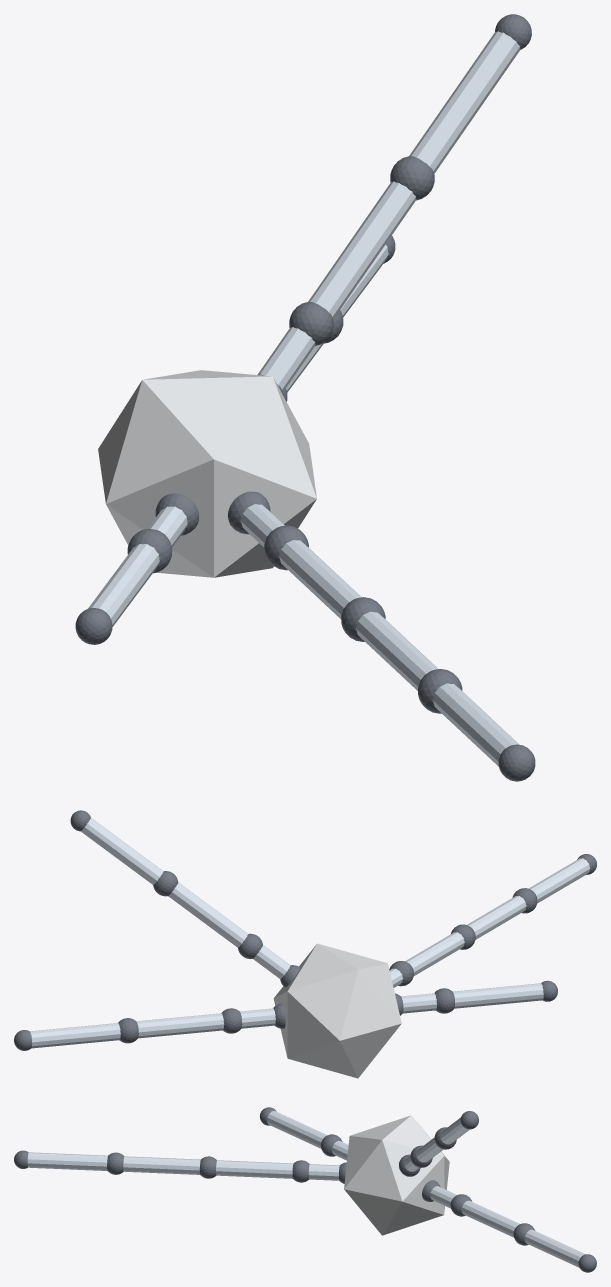
Rendered from g0_4332_0_abs.glb.
3 views of the same model, one above another, from view 1: azimuth 30°, elevation 25°; view 2: azimuth 150°, elevation 25°; view 3: azimuth 270°, elevation 25° (orthographic). The views are drawn at different scales.
Visible parts, largest first — view 1: geom_0, geom_22, geom_20, geom_15, geom_11, geom_13, geom_27, geom_18, geom_21, geom_19, geom_16, geom_28 (+1 smaller); view 2: geom_0, geom_22, geom_27, geom_6, geom_20, geom_4, geom_15, geom_11, geom_13, geom_18, geom_2, geom_25 (+5 smaller); view 3: geom_0, geom_15, geom_11, geom_13, geom_6, geom_27, geom_4, geom_9, geom_22, geom_20, geom_2, geom_10 (+8 smaller).
Part boxes in pixels (x1,y1,x2,y2): geom_0: [98, 370, 316, 577]; geom_22: [409, 31, 520, 173]; geom_20: [308, 181, 416, 319]; geom_15: [432, 683, 519, 766]; geom_11: [279, 540, 361, 619]; geom_13: [356, 611, 437, 690]; geom_27: [88, 544, 159, 626]; geom_18: [258, 327, 315, 391]; geom_21: [390, 156, 434, 200]; geom_19: [289, 301, 333, 345]; geom_16: [498, 744, 535, 781]; geom_28: [75, 608, 112, 644]; geom_0: [273, 943, 401, 1078]; geom_22: [81, 818, 163, 884]; geom_27: [453, 983, 543, 1008]; geom_6: [30, 1023, 120, 1048]; geom_20: [168, 882, 247, 947]; geom_4: [136, 1013, 224, 1038]; geom_15: [529, 858, 590, 903]; geom_11: [405, 932, 464, 975]; geom_13: [467, 896, 526, 939]; geom_18: [253, 945, 290, 979]; geom_2: [240, 1008, 275, 1028]; geom_25: [401, 993, 437, 1013]; geom_0: [344, 1115, 449, 1235]; geom_15: [27, 1152, 107, 1170]; geom_11: [216, 1160, 293, 1178]; geom_13: [123, 1156, 200, 1174]; geom_6: [524, 1229, 585, 1267]; geom_27: [267, 1111, 327, 1148]; geom_4: [461, 1200, 519, 1237]; geom_9: [308, 1164, 339, 1180]; geom_22: [440, 1117, 469, 1144]; geom_20: [416, 1137, 443, 1162]; geom_2: [430, 1186, 456, 1208]; geom_10: [292, 1160, 309, 1182].
Bounding box in the file's own units: 0.485 × 0.29 × 0.7509.
